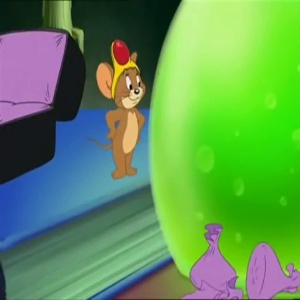Jerry: (93, 55, 153, 111)
